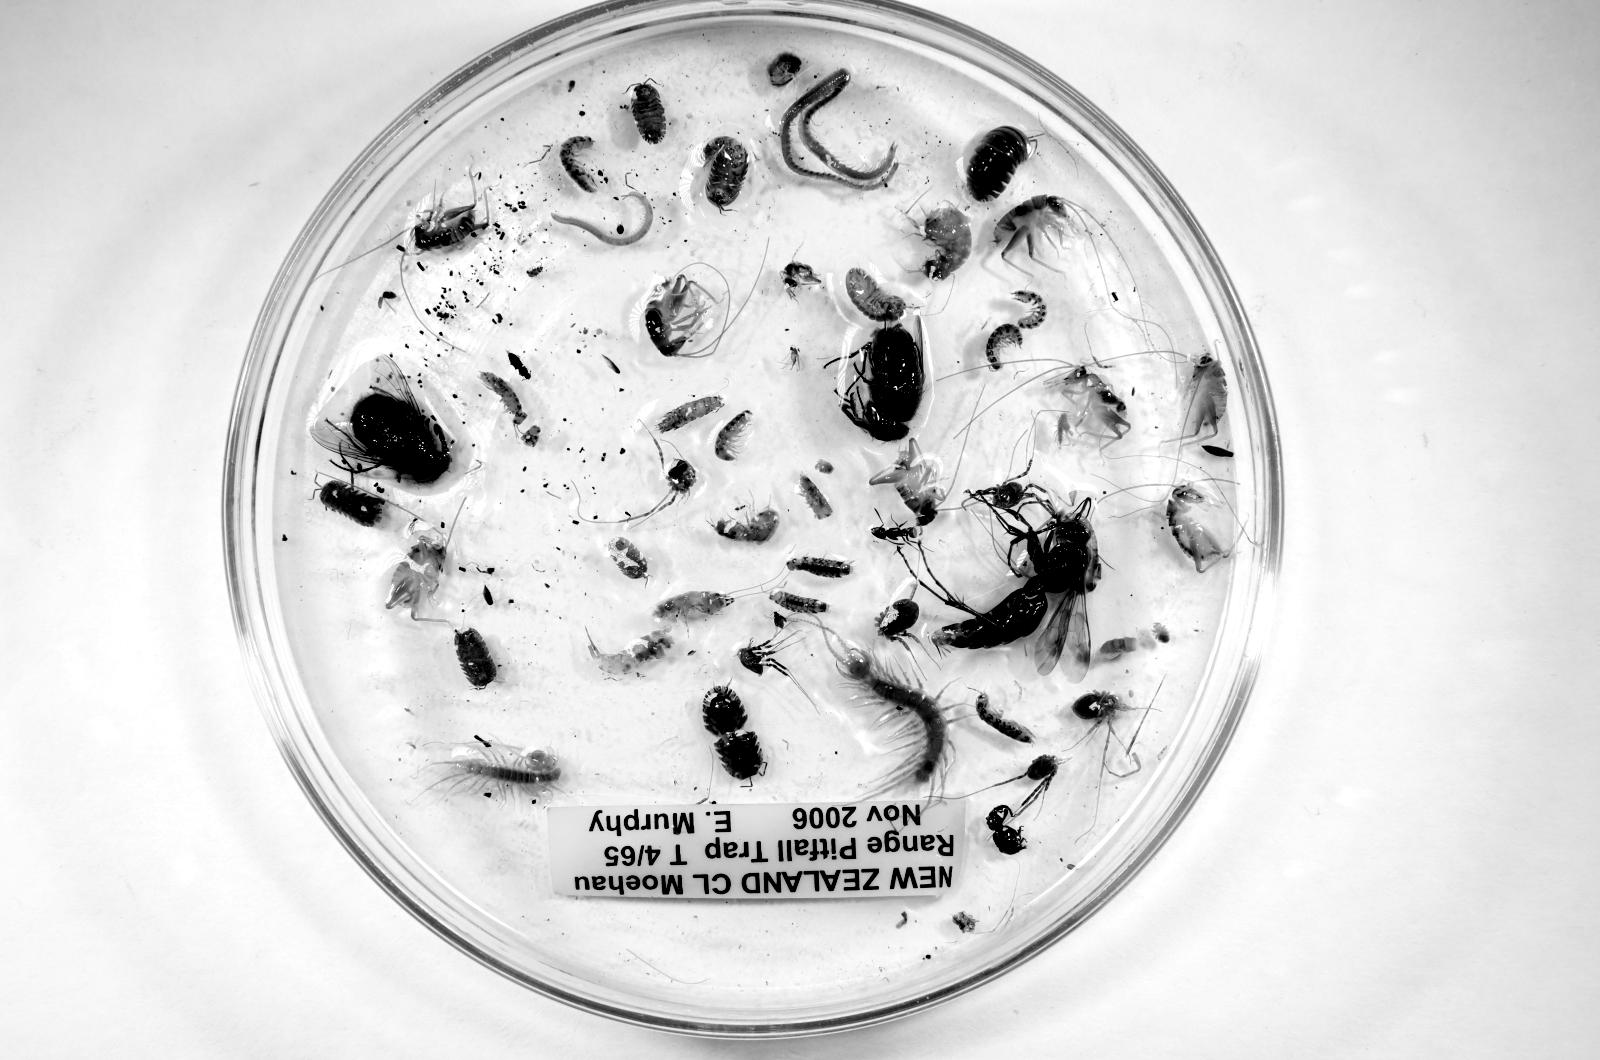amphipoda: (922, 207, 971, 279), (714, 508, 779, 544)
chilopoda: (822, 626, 952, 797), (779, 69, 898, 190), (427, 735, 561, 801)
coleoptera: (985, 804, 1025, 855), (508, 351, 531, 379)
diplopoda: (552, 189, 653, 246)
diptera: (310, 355, 453, 483), (841, 321, 926, 441), (790, 347, 804, 371)
formicidae: (872, 526, 919, 545)
hymenoptera: (933, 487, 1101, 681)
isopoda: (702, 686, 765, 780), (967, 127, 1029, 201), (702, 136, 750, 211), (846, 267, 906, 322), (319, 479, 386, 526), (974, 693, 1034, 743), (454, 628, 497, 689), (480, 373, 527, 425), (660, 394, 721, 432), (631, 82, 666, 144), (559, 136, 597, 193), (715, 409, 753, 459), (607, 537, 648, 580), (985, 324, 1022, 370), (786, 556, 853, 577), (770, 592, 829, 615), (1012, 290, 1047, 329)
opiliones: (1011, 755, 1060, 817), (970, 473, 1034, 516), (738, 639, 792, 678), (876, 599, 919, 640), (1073, 691, 1128, 719)
orthoptera: (869, 439, 946, 526), (995, 195, 1081, 267), (646, 274, 717, 356), (1165, 483, 1227, 573), (1057, 367, 1129, 444), (386, 536, 447, 623), (412, 203, 488, 251), (1184, 355, 1227, 438), (782, 261, 822, 298)
